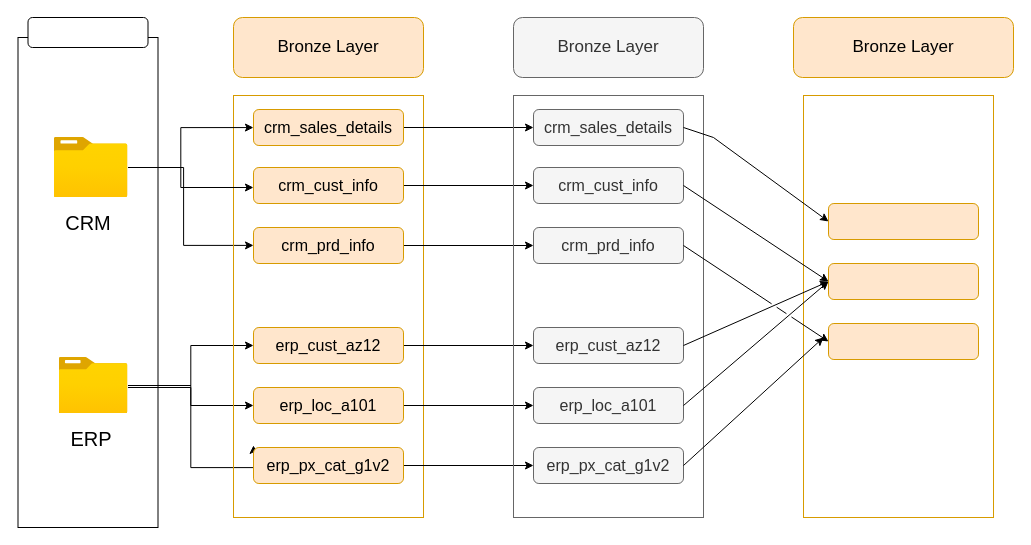
Some shapes in this 1031 by 545 pixel diagram are drawn without their labels. Here are the shapes that lost their labels. From the top down, the centre of each, then its label:
point 87,32: Source
point 903,221: fact_sales
point 903,281: dim_customers
point 903,341: dim_products
